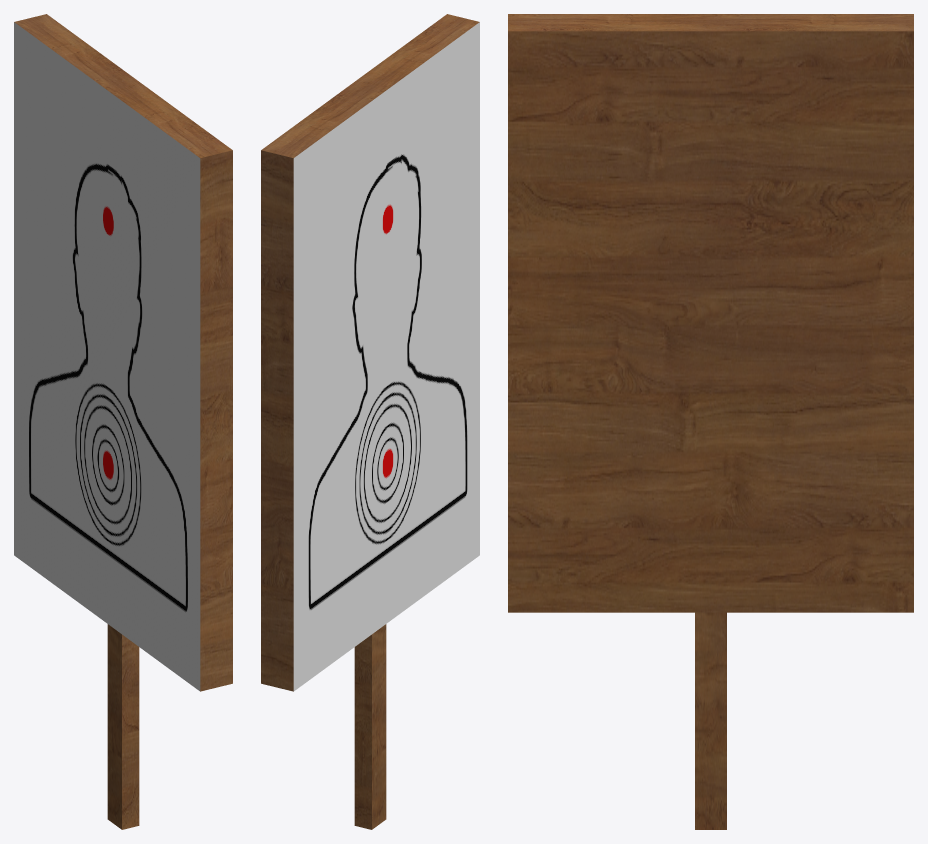
Rendered from Target.fbx.
3 renders of one model, left to right at view 1: azimuth 30°, elevation 25°; view 2: azimuth 150°, elevation 25°; view 3: azimuth 270°, elevation 25°, orthographic. The views are drawn at different scales.
Parts seen in each view (by area): view 1: pCube2; view 2: pCube2; view 3: pCube2.
Part boxes in pixels (box(x1,y1,x2,y2)): pCube2: box(14, 14, 232, 829); pCube2: box(261, 14, 479, 829); pCube2: box(508, 14, 913, 829).
Bounding box in the file's own units: 0.5118 × 11.02 × 5.05.
